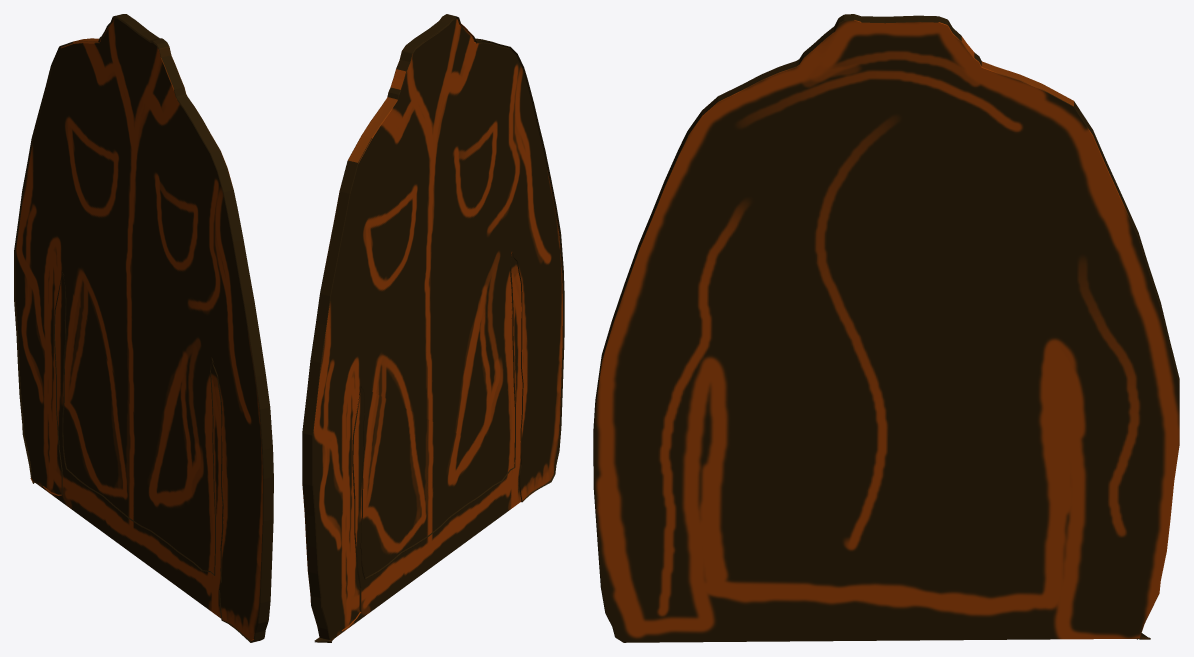
File: jacketChange.fbx
3 renders of one model, left to right at view 1: azimuth 30°, elevation 25°; view 2: azimuth 150°, elevation 25°; view 3: azimuth 270°, elevation 25°, orthographic. The views are drawn at different scales.
Visible parts, largest first — view 1: Plane; view 2: Plane; view 3: Plane.
Part boxes in pixels (bbox=[...]): Plane: bbox=[14, 14, 273, 642]; Plane: bbox=[302, 14, 564, 642]; Plane: bbox=[593, 14, 1179, 642].
Bounding box in the file's own units: 8.95 × 382 × 326.
